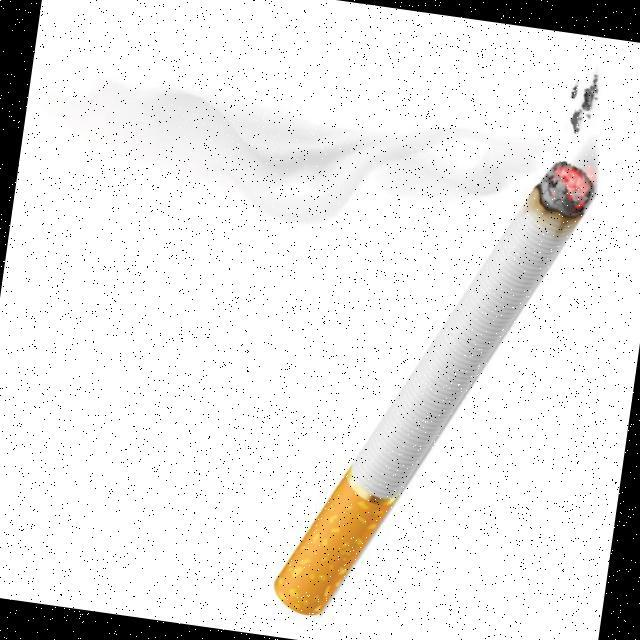cigarette: (255, 116, 596, 640)
